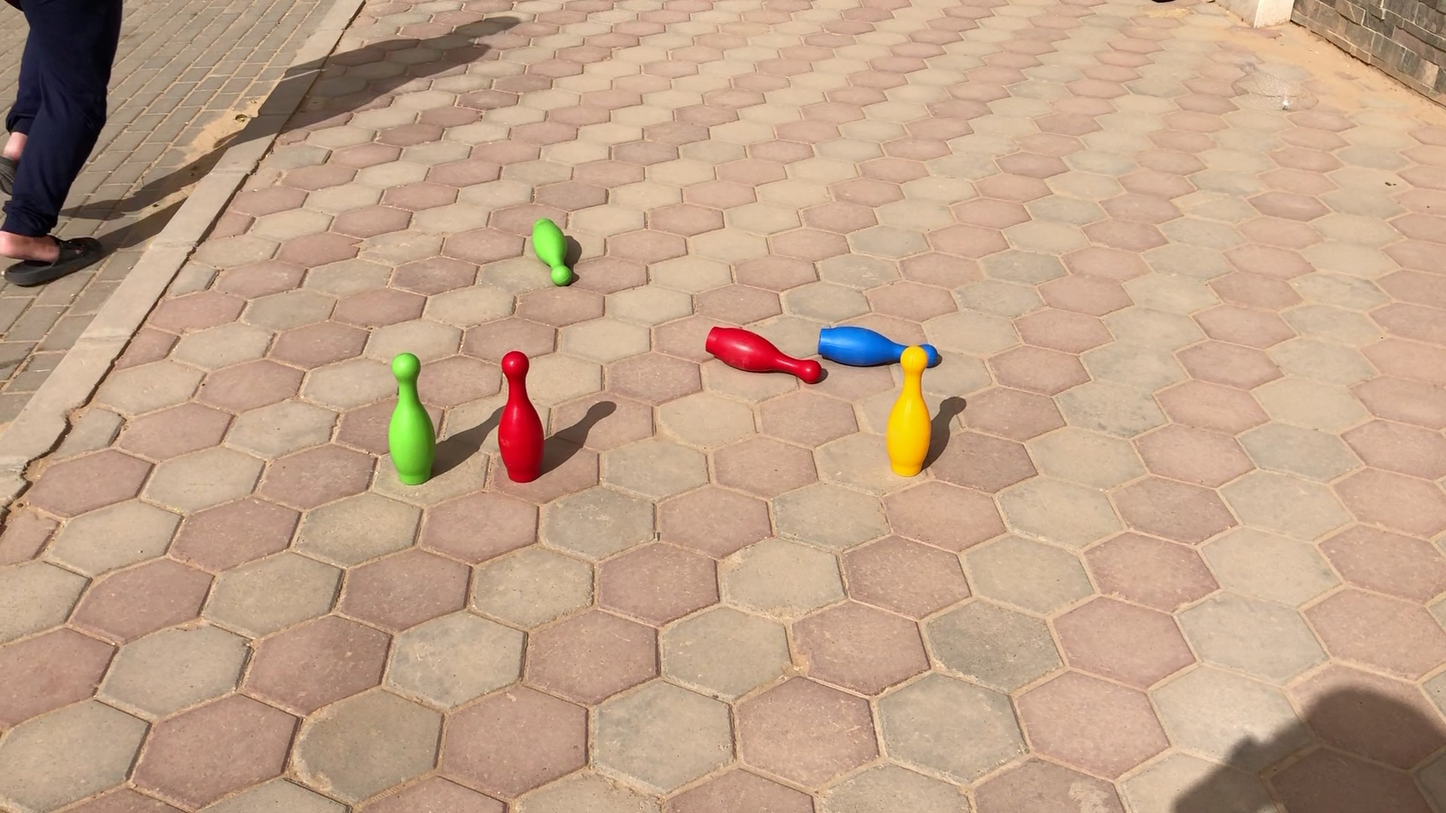pin: (812, 322, 945, 374), (706, 325, 825, 380), (884, 342, 933, 475), (495, 350, 542, 480), (389, 353, 435, 482), (529, 218, 577, 284)
